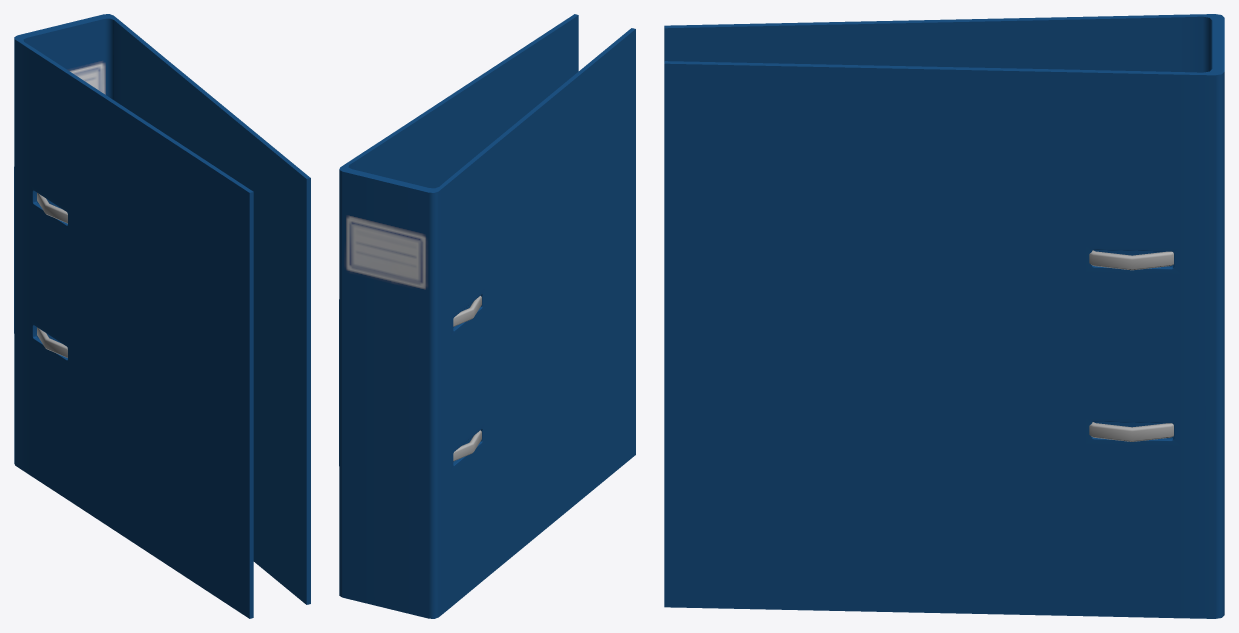
File: SM_Classeur.fbx
3 renders of one model, left to right at view 1: azimuth 30°, elevation 25°; view 2: azimuth 150°, elevation 25°; view 3: azimuth 270°, elevation 25°, orthographic. The views are drawn at different scales.
Parts seen in each view (by area): view 1: SM_Classeur; view 2: SM_Classeur; view 3: SM_Classeur.
Part boxes in pixels (x1=…): SM_Classeur: x1=14, y1=14, x2=310, y2=618; SM_Classeur: x1=339, y1=14, x2=635, y2=618; SM_Classeur: x1=664, y1=14, x2=1224, y2=618.
Bounding box in the file's own units: 7.43 × 28.44 × 26.56.
